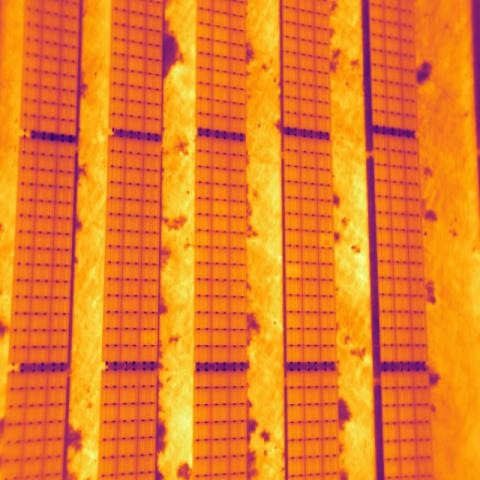fault: (285, 262, 302, 278)
